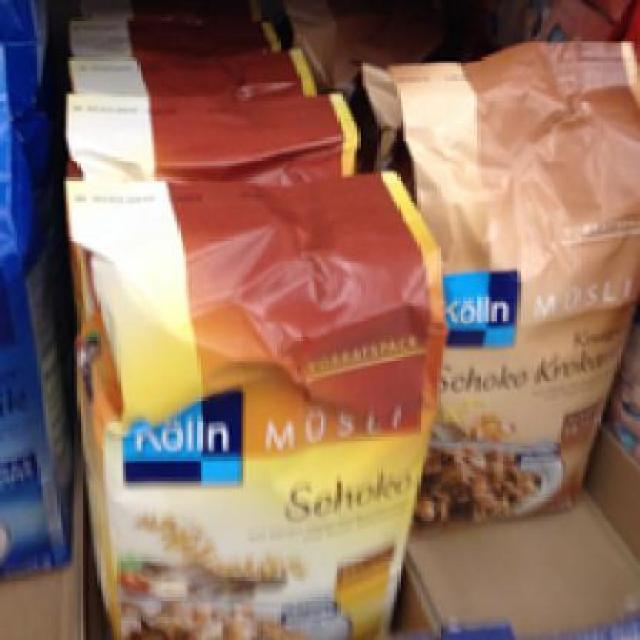Cereal: (63, 168, 446, 638), (366, 40, 634, 529)
